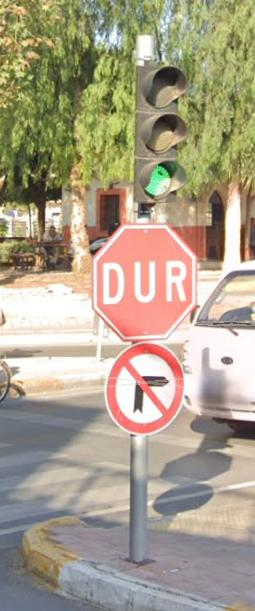greenlight: (135, 62, 182, 207)
rightturnsareforbidden: (108, 347, 181, 432)
stop: (95, 221, 197, 335)
